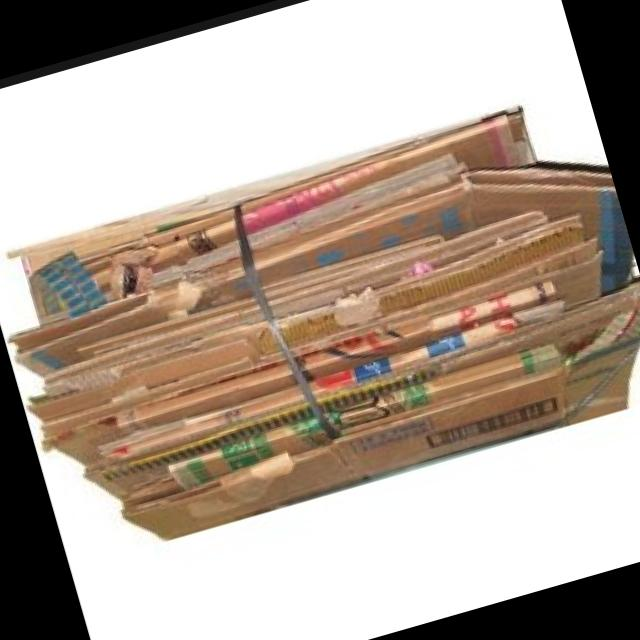Kardus: (0, 86, 640, 572)
